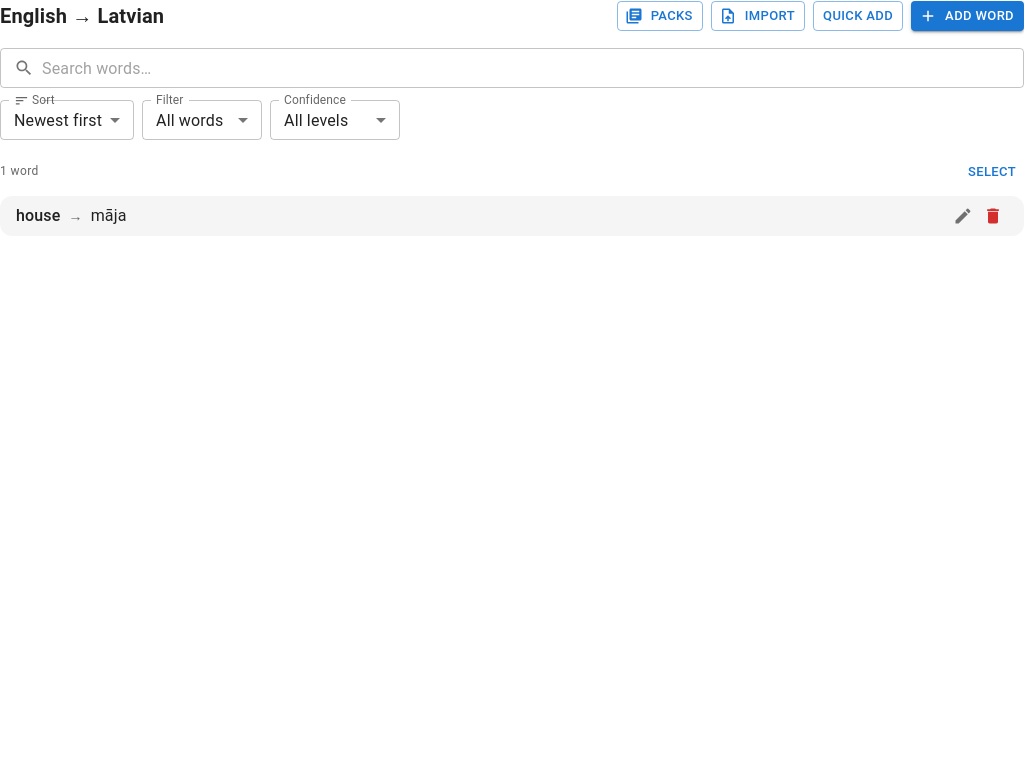
it: WordListScreen › should delete a word when confirmed
Expected: the text "house" is shown, [16,204,60,228]
Click the button named "Delete house": (993, 216) [978,201,1008,231]
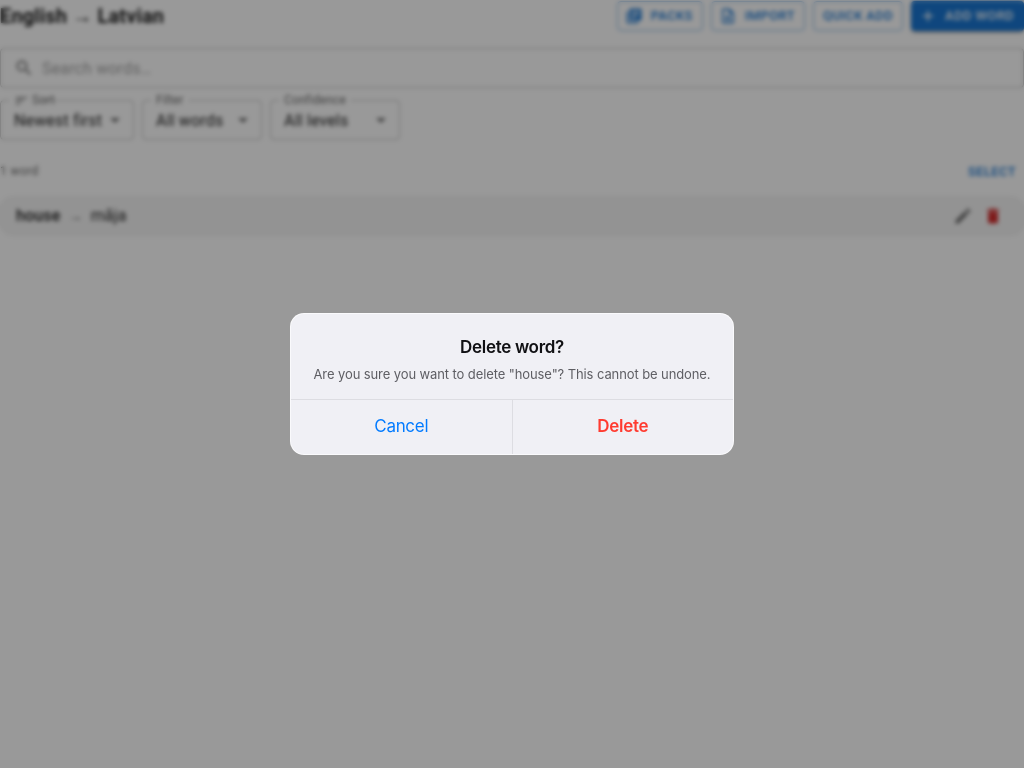
Click the button "Delete": (623, 427) [512,400,733,454]
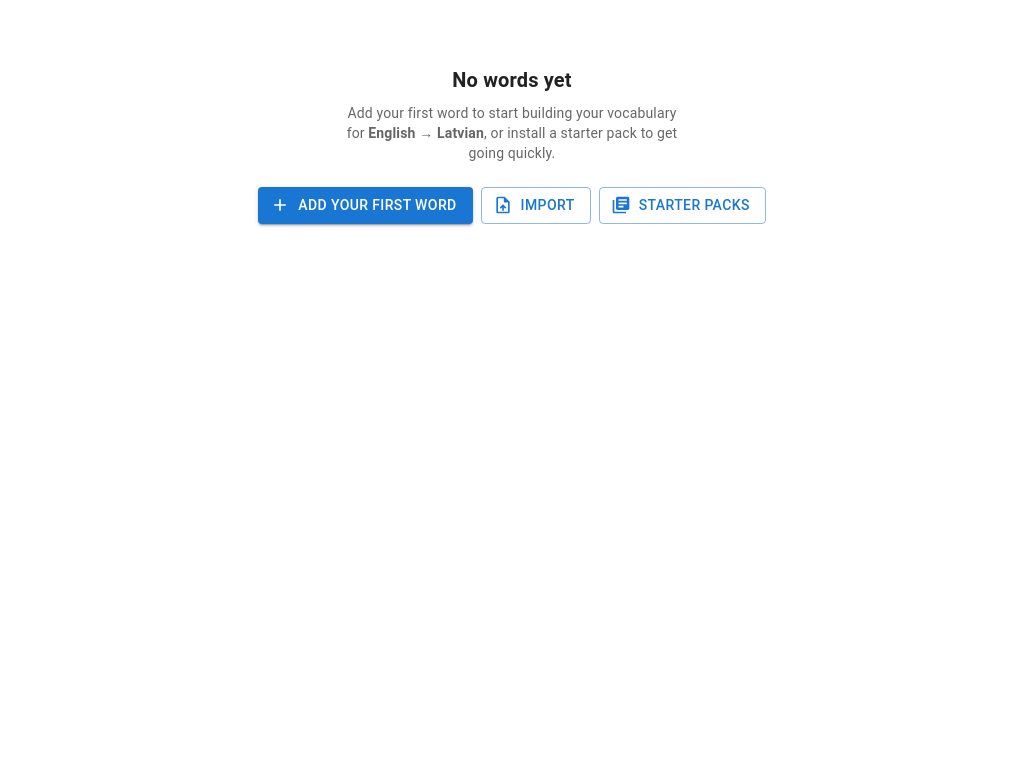
Expected: the text "house" is gone
